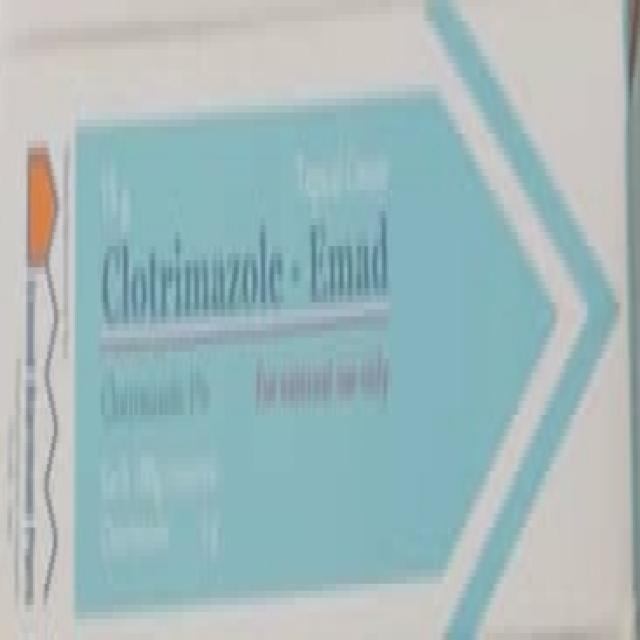drug-name: (102, 235, 288, 328)
